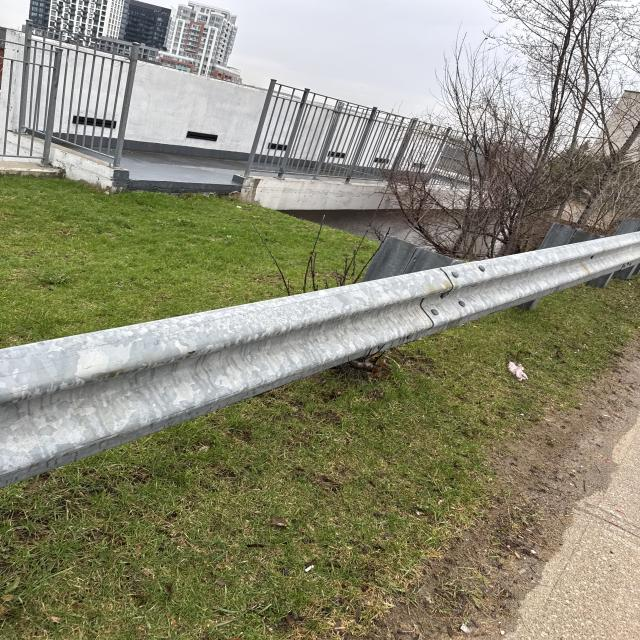Guard rail: (22, 243, 630, 471)
